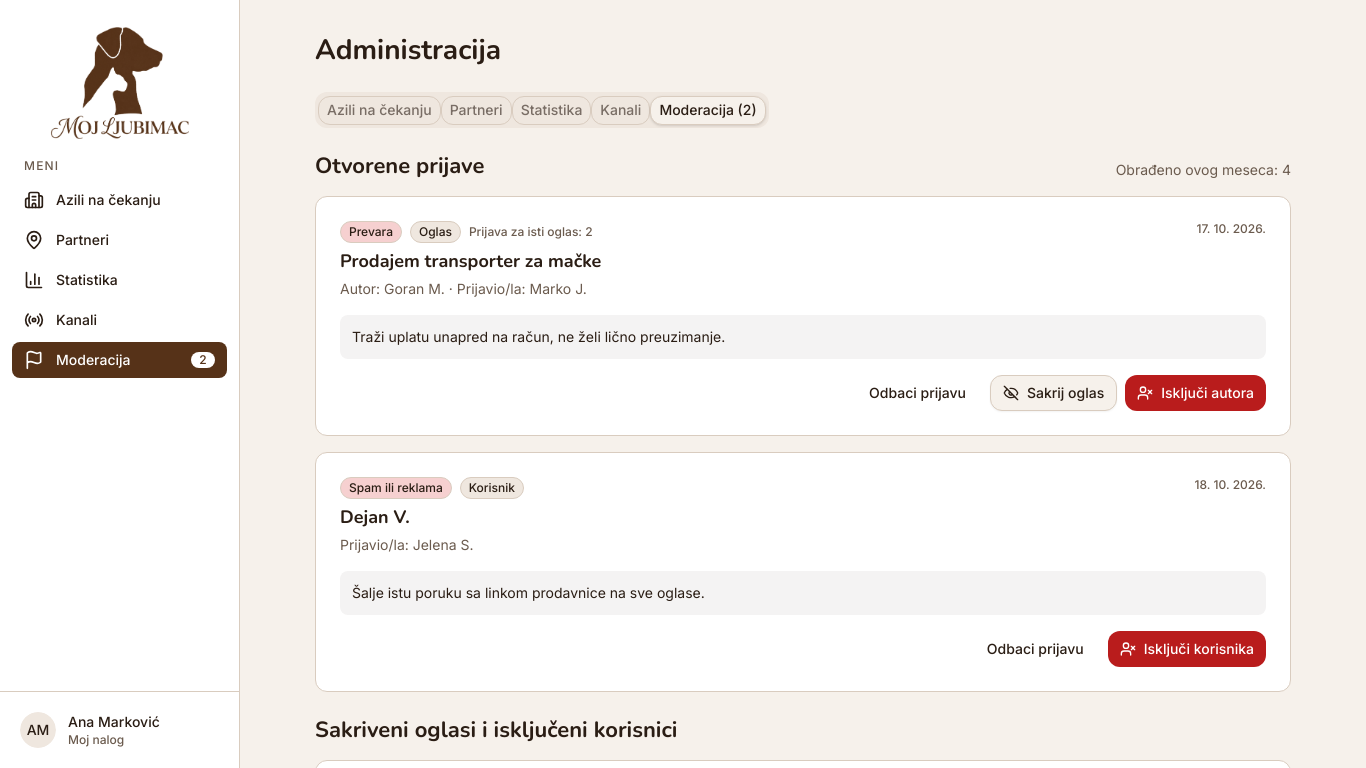
Test: FR-71 #2–#5 — decisions › #3: Isključi korisnika suspends (no reason → null)
Click the button "Isključi korisnika": (1187, 649) [1108,631,1266,667]
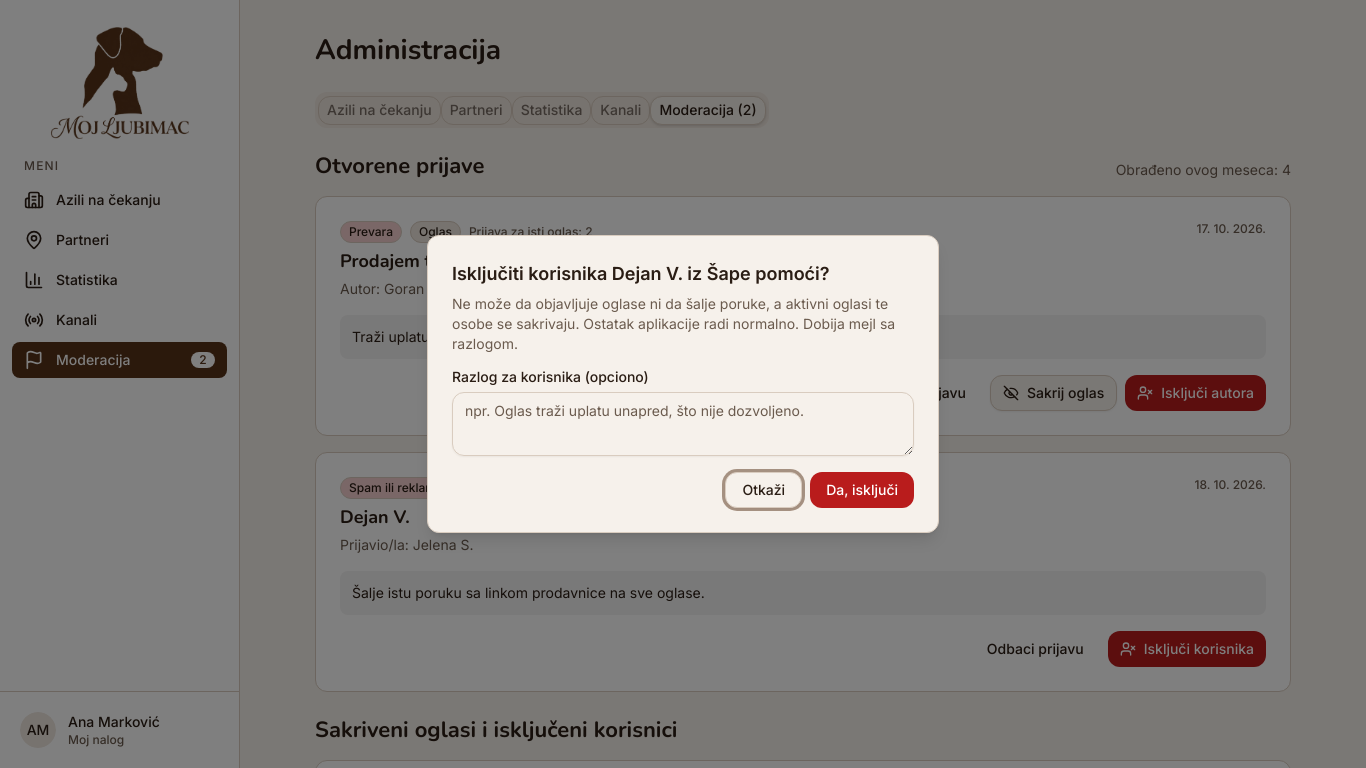
Click the button "Da, isključi": (862, 490) [810,472,914,508]
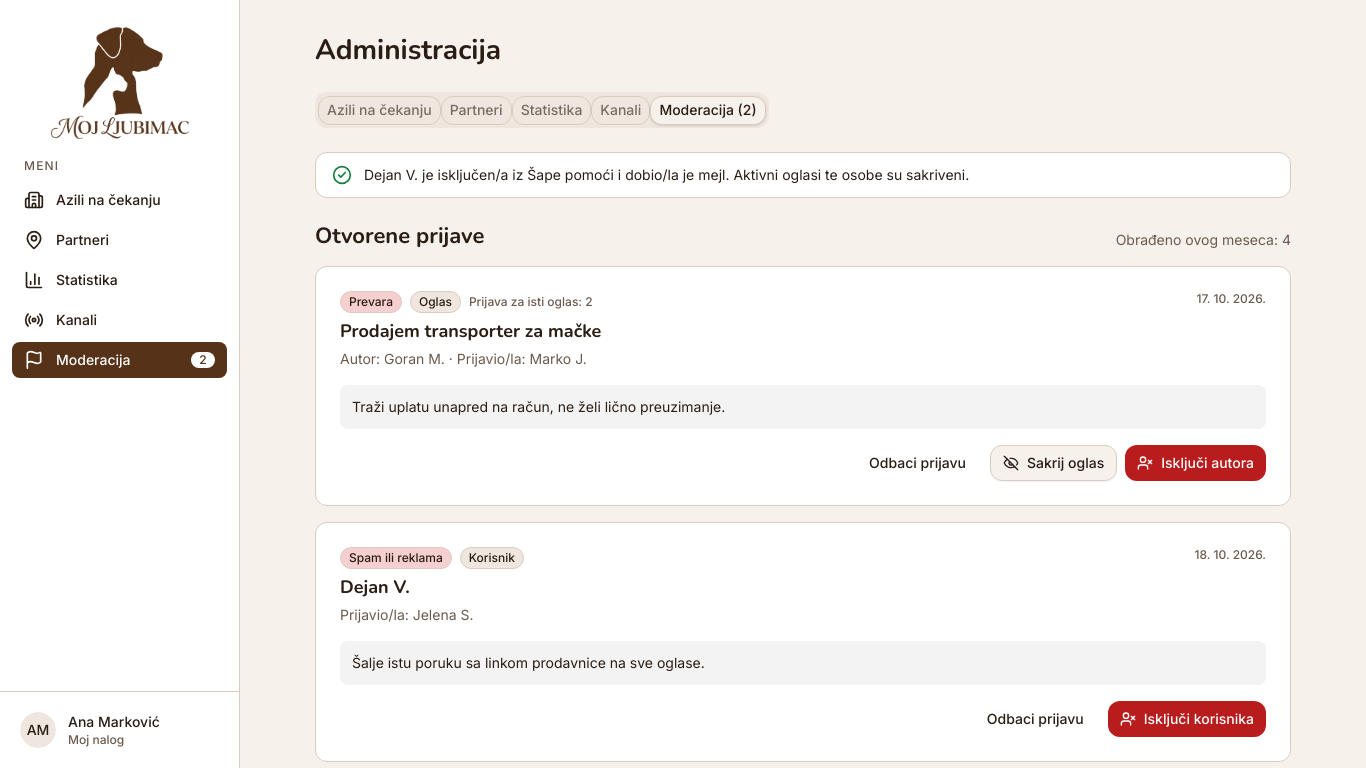
Now the text "Dejan V. je isključen/a iz Šape pomoći i dobio/la je mejl. Aktivni oglasi te osobe su sakriveni." is shown, box [364,166,969,183]
